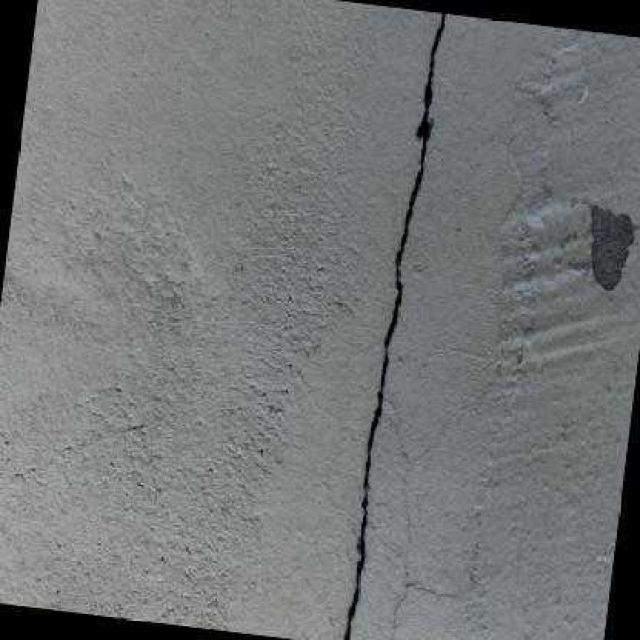D00: (344, 13, 445, 640), (391, 583, 453, 640)
